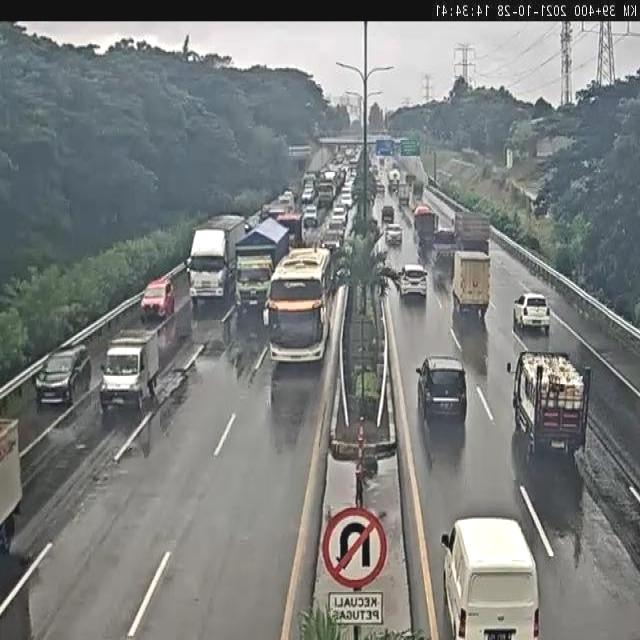Bus: (267, 245, 335, 364), (260, 200, 290, 223), (398, 184, 410, 206)
Car: (35, 344, 91, 406), (417, 356, 467, 424), (141, 277, 175, 321), (513, 293, 549, 333), (398, 263, 428, 302), (322, 227, 342, 252), (384, 224, 404, 246), (330, 207, 346, 231), (302, 204, 318, 226), (301, 184, 315, 204), (278, 190, 294, 206), (381, 204, 394, 223), (375, 180, 384, 196)
Truck: (506, 347, 593, 460), (234, 216, 291, 320), (100, 329, 162, 414), (188, 220, 244, 305), (0, 419, 23, 542), (452, 252, 491, 318), (454, 211, 490, 255), (413, 205, 437, 247), (431, 228, 456, 264), (276, 212, 302, 245), (316, 173, 336, 207), (388, 169, 401, 190), (405, 172, 416, 187)
Van: (440, 516, 540, 638)
